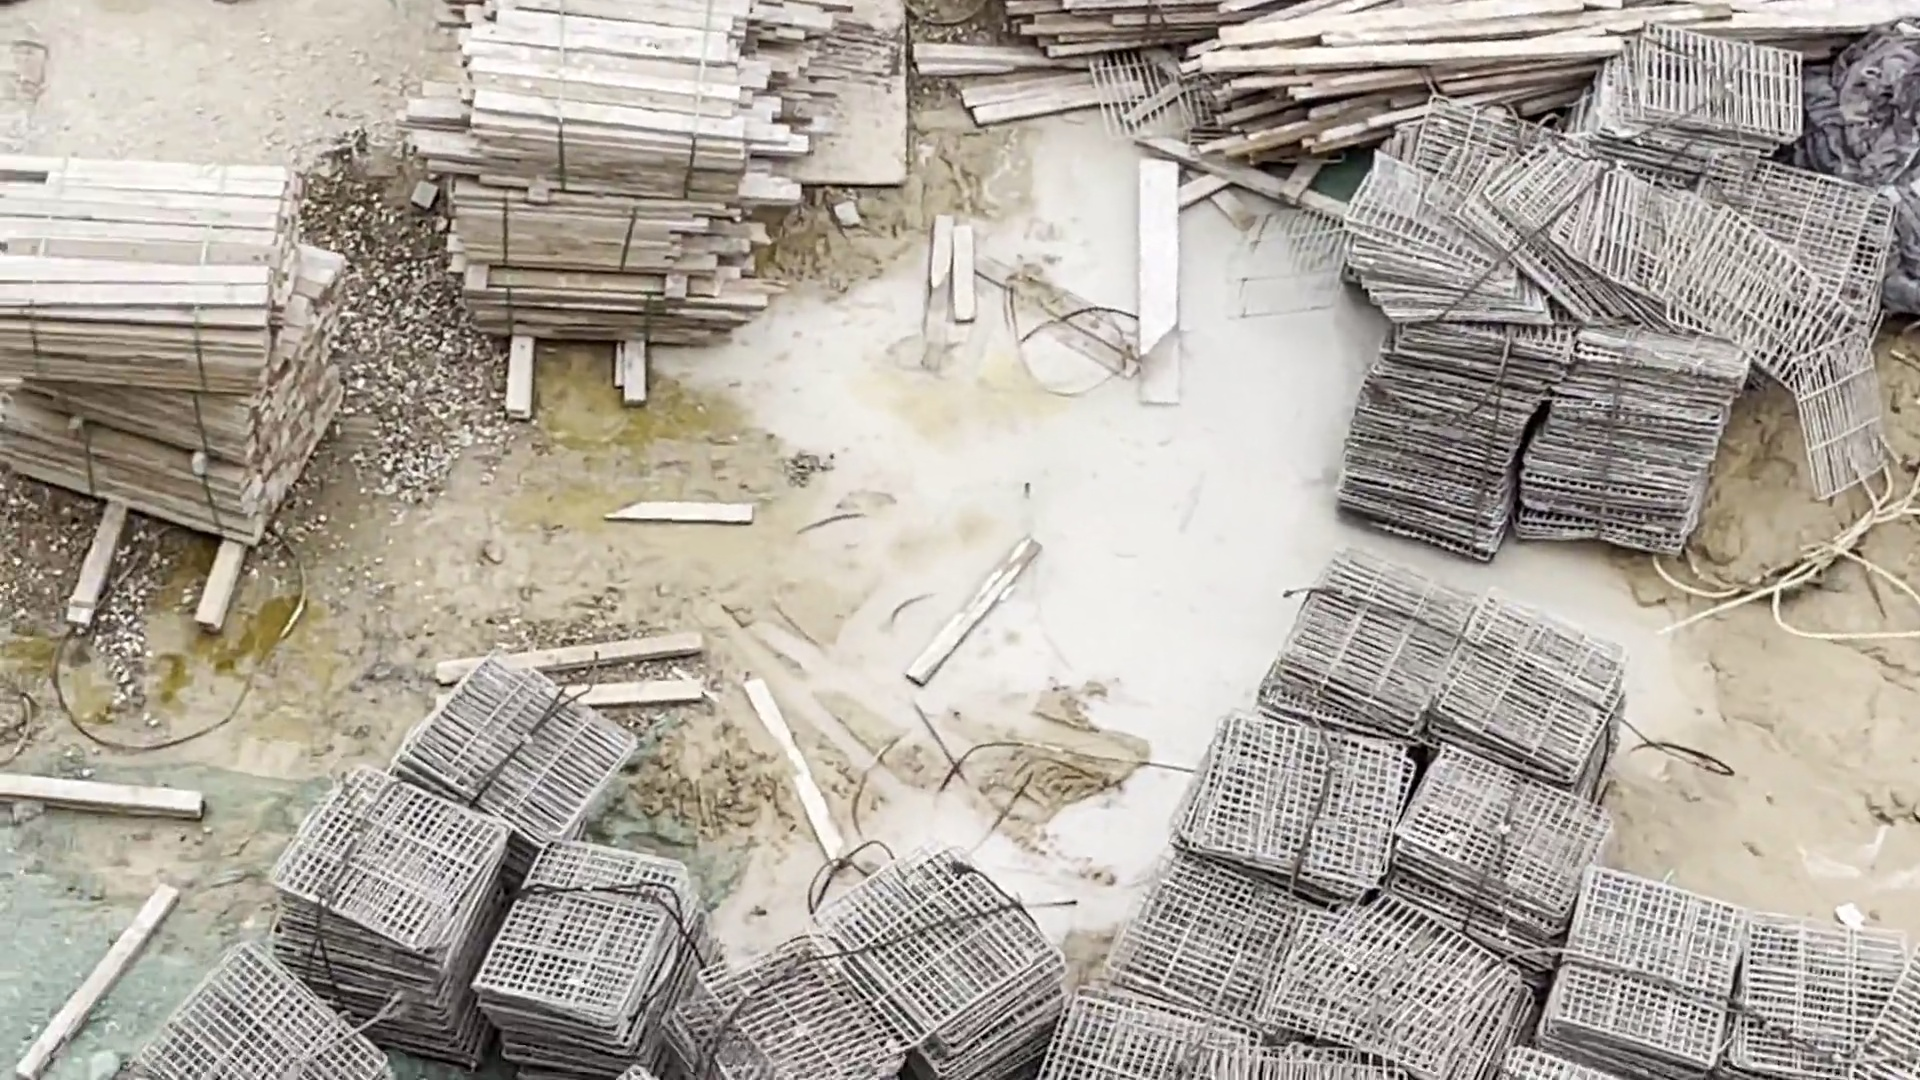wood: (406, 3, 811, 347), (3, 154, 345, 547)
